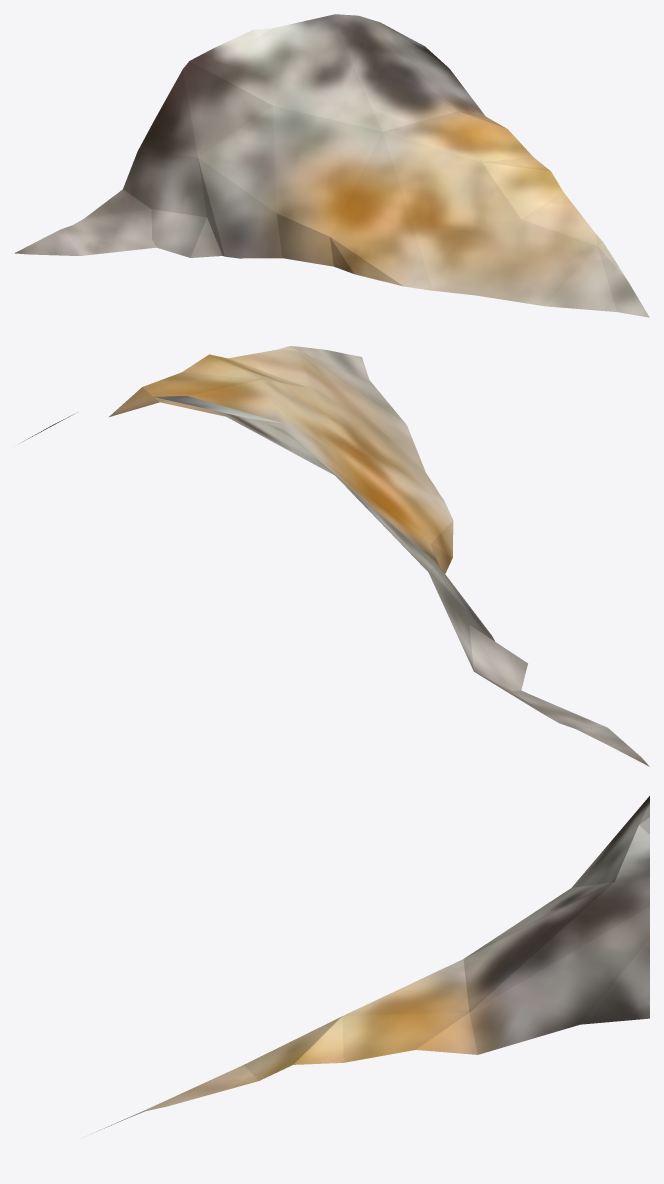
3 views of the same model, one above another, from view 1: azimuth 30°, elevation 25°; view 2: azimuth 150°, elevation 25°; view 3: azimuth 270°, elevation 25° (orthographic). The views are drawn at different scales.
Size of the model in its own units: 0.3573 by 0.1374 by 0.3387.
1 material, 1 textured.
